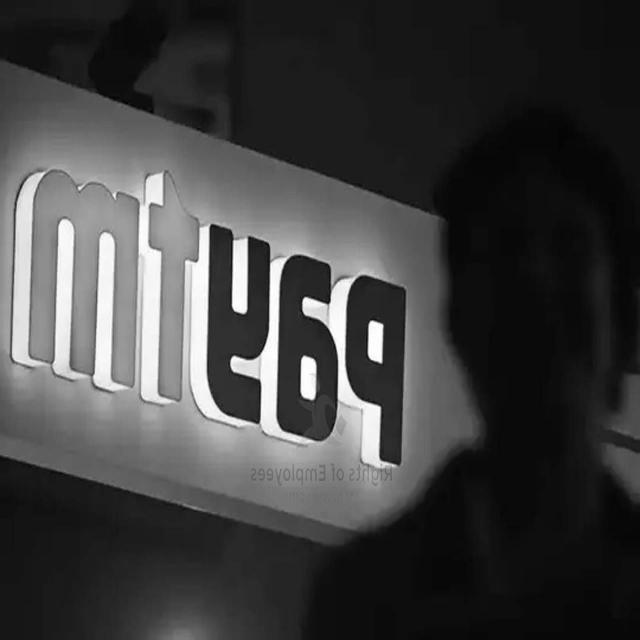fully_visible: (6, 166, 410, 464)
